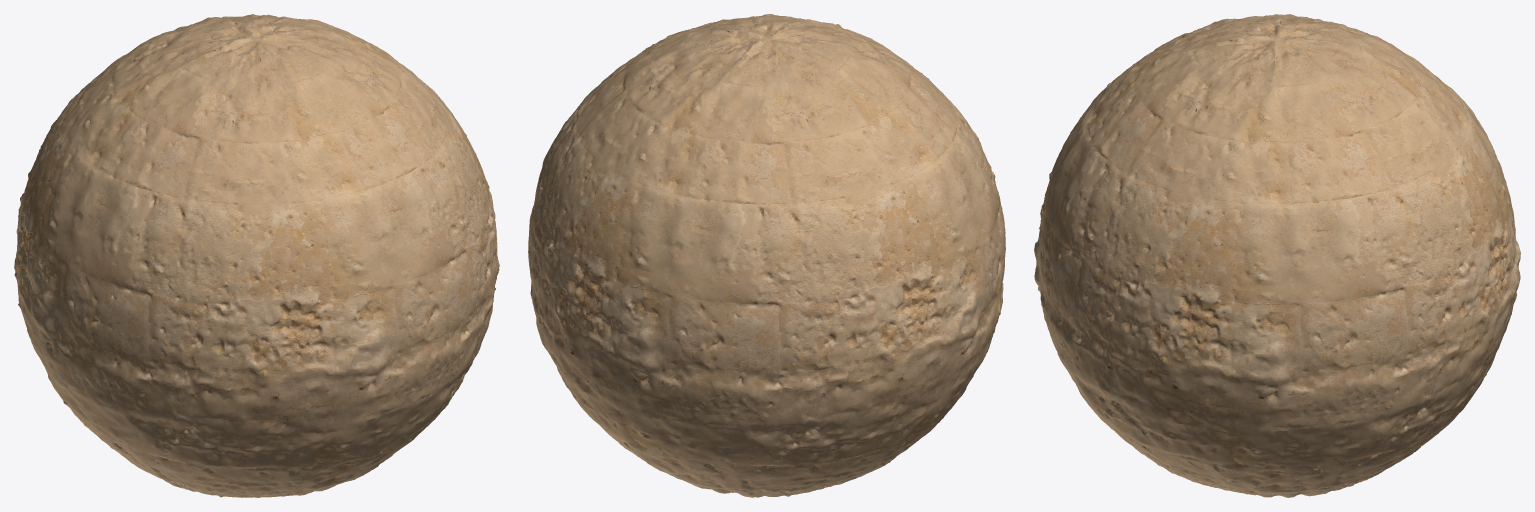
Rendered from sandstone_blocks_04_1k.glb.
3 views of the same model, side by side, from view 1: azimuth 30°, elevation 25°; view 2: azimuth 150°, elevation 25°; view 3: azimuth 270°, elevation 25° (orthographic).
Visible parts, largest first — view 1: sphere_gltf; view 2: sphere_gltf; view 3: sphere_gltf.
Boxes of the visible parts, x1,y1,x2,y2 form: sphere_gltf: (14, 14, 499, 497); sphere_gltf: (528, 14, 1005, 497); sphere_gltf: (1034, 14, 1520, 497).
Bounding box in the file's own units: 3.04 × 3.01 × 3.04.
1 material, 1 textured.
